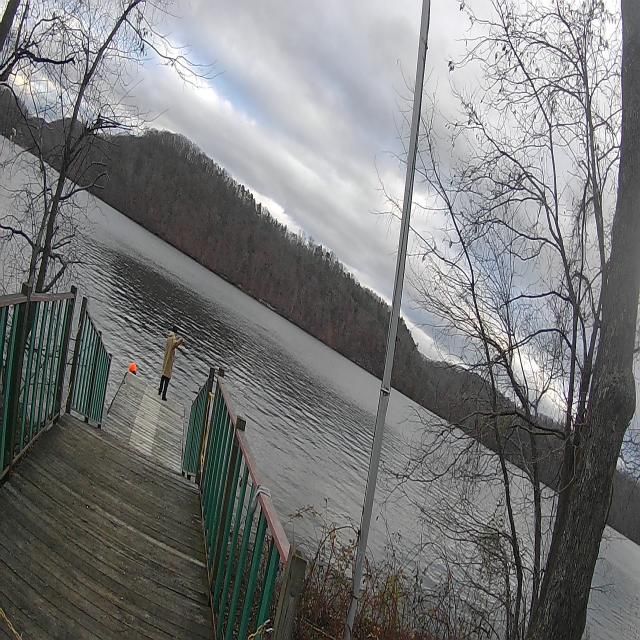Buoy: (128, 363, 138, 376)
